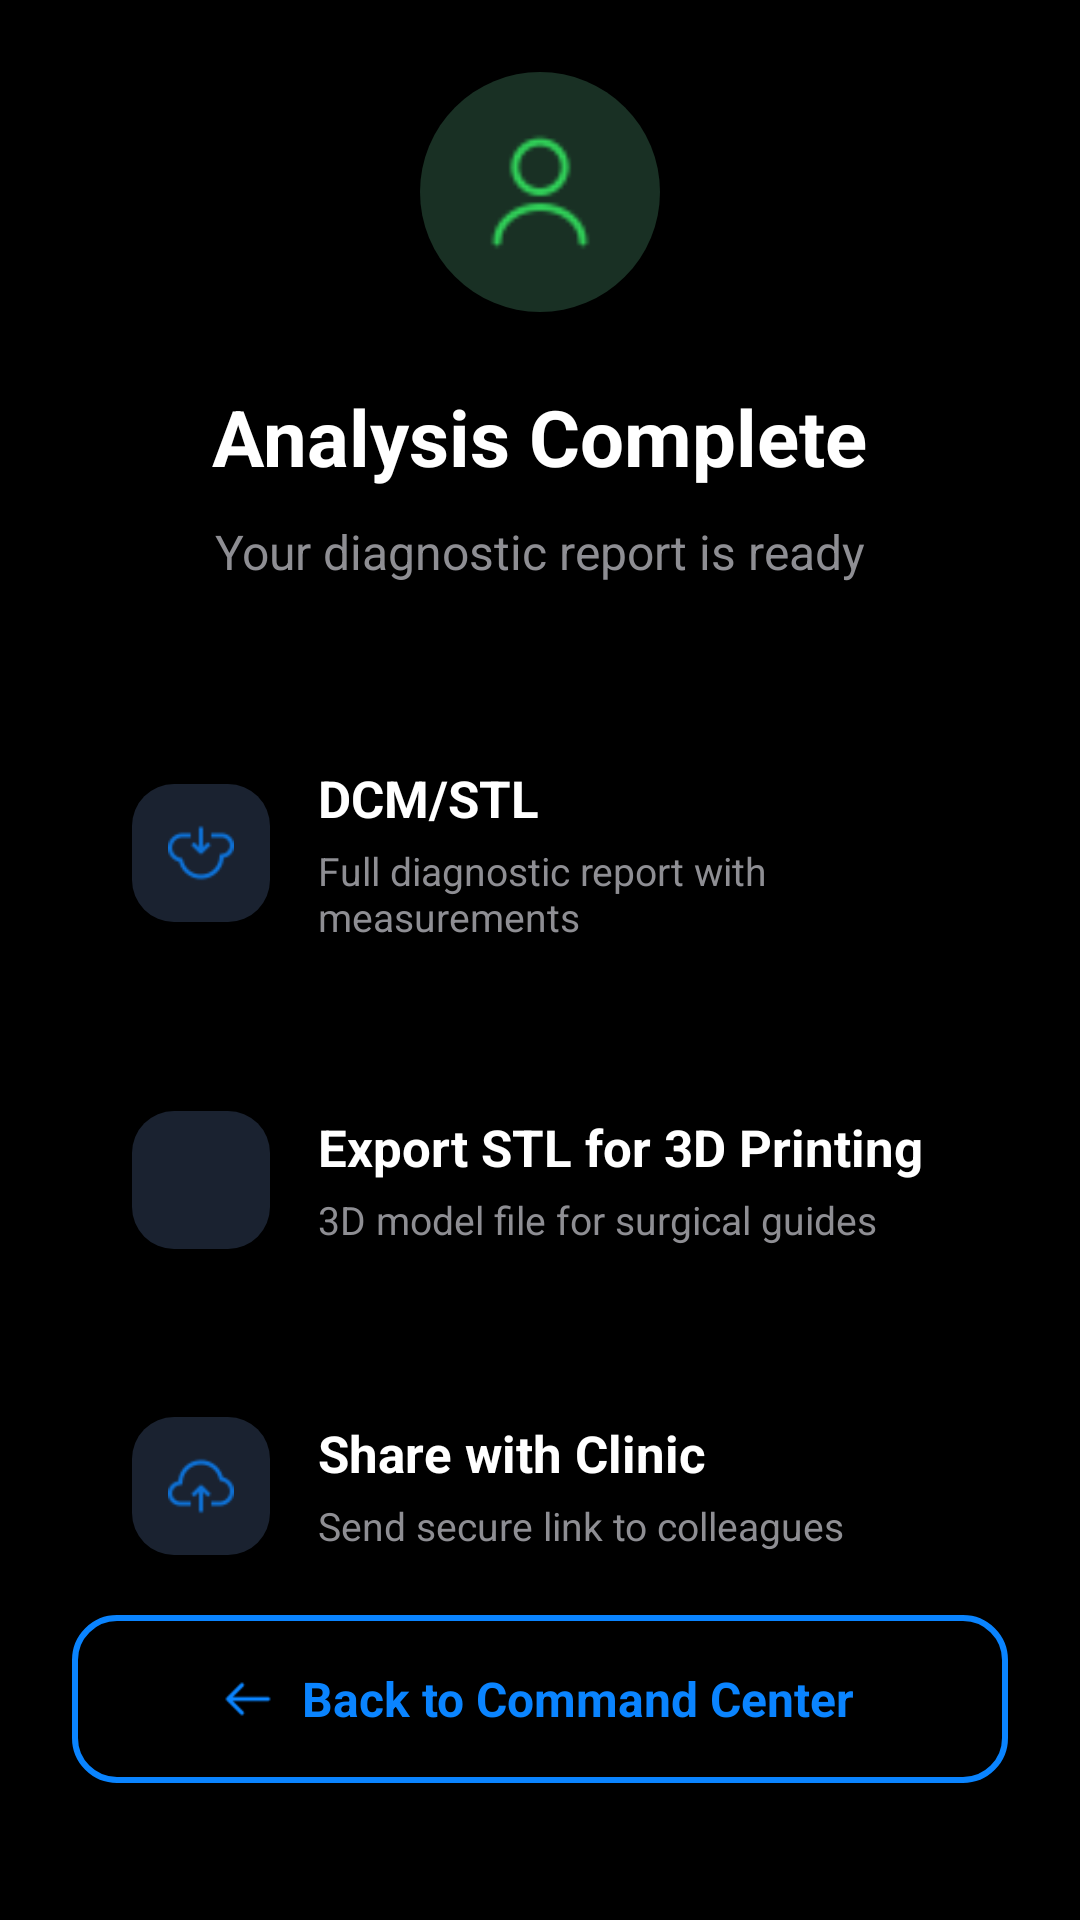

Where to tap for icons on this 1080×1920 app screen, as point (x, y):
profile: point (540, 192)
